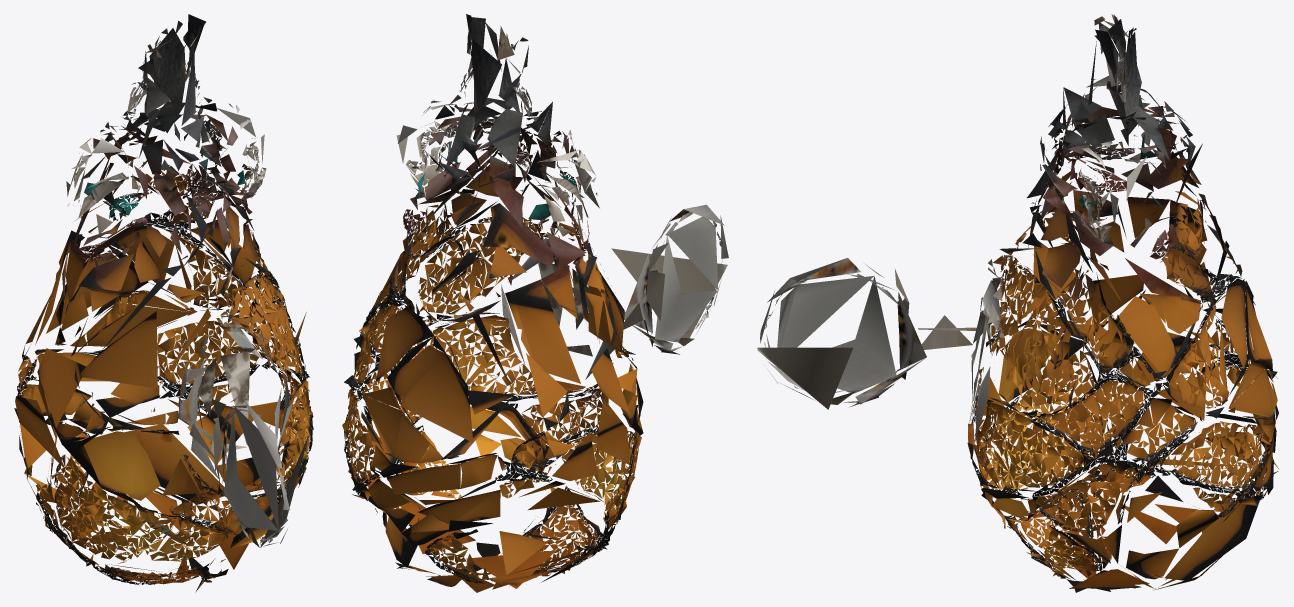
Rendered from drop_resin_locket.glb.
The picture shows the model from 3 angles, left to right: view 1: azimuth 30°, elevation 25°; view 2: azimuth 150°, elevation 25°; view 3: azimuth 270°, elevation 25°; orthographic projection. The views are drawn at different scales.
Visible parts, largest first — view 1: node_0; view 2: node_0; view 3: node_0.
Part boxes in pixels (bbox=[...]): node_0: bbox=[14, 14, 313, 592]; node_0: bbox=[342, 14, 728, 592]; node_0: bbox=[757, 14, 1278, 592].
Bounding box in the file's own units: 0.5273 × 1.08 × 0.8915.
Materials: 1 (1 with a texture image).
